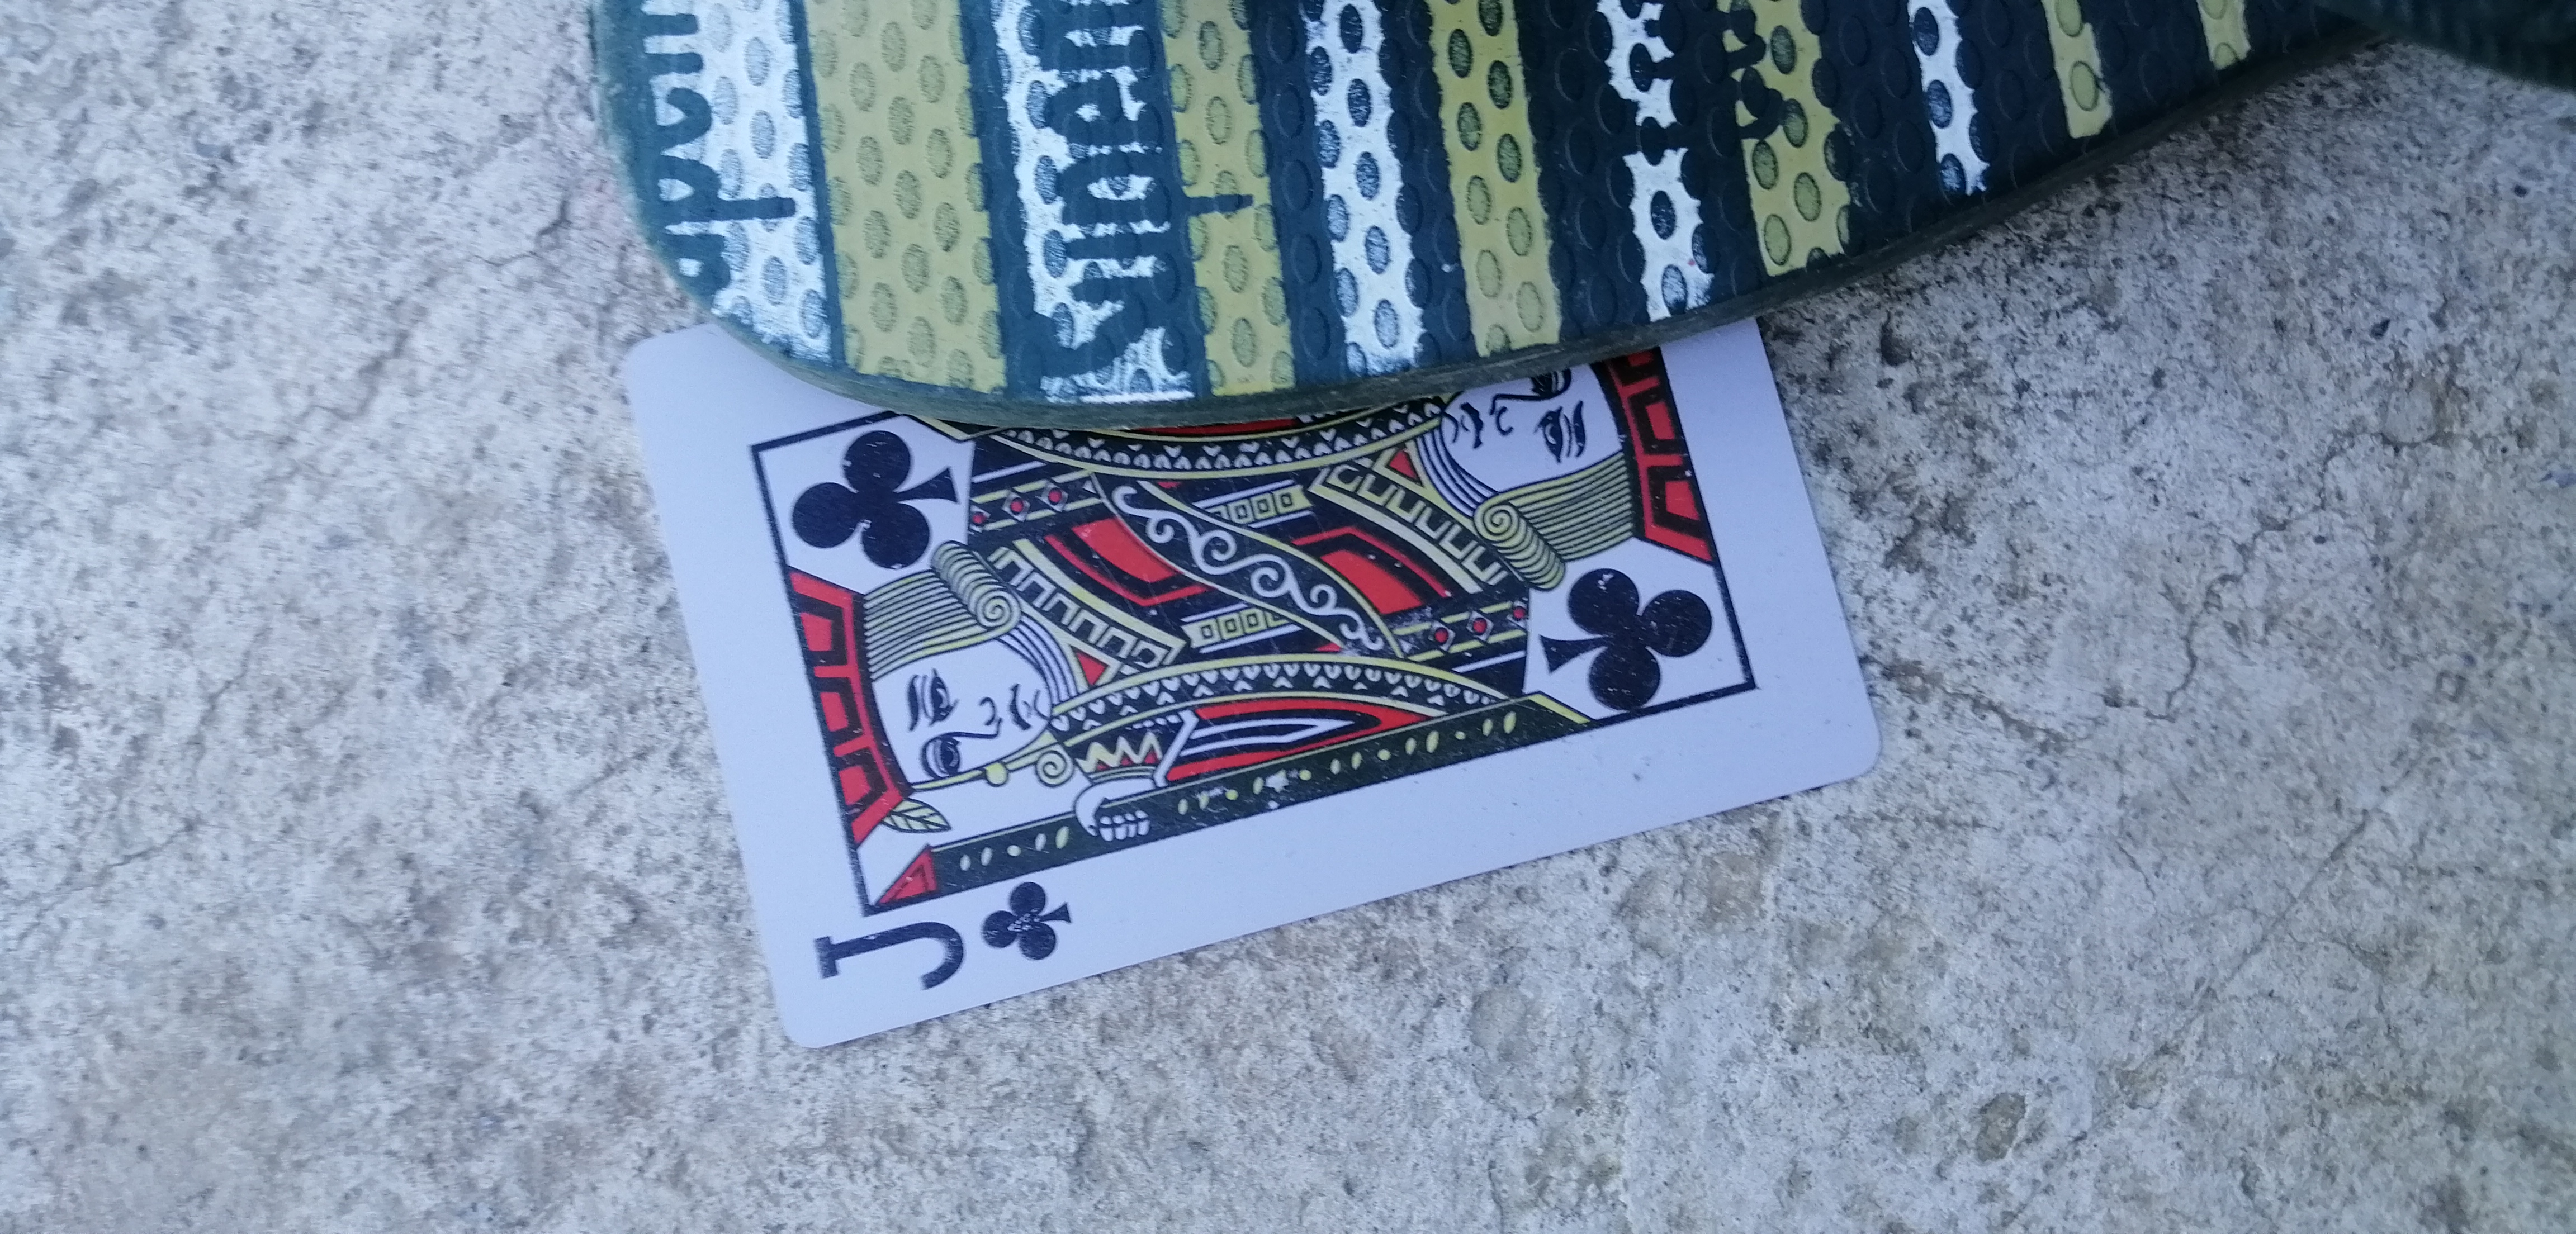jack: (559, 304, 1930, 1047)
